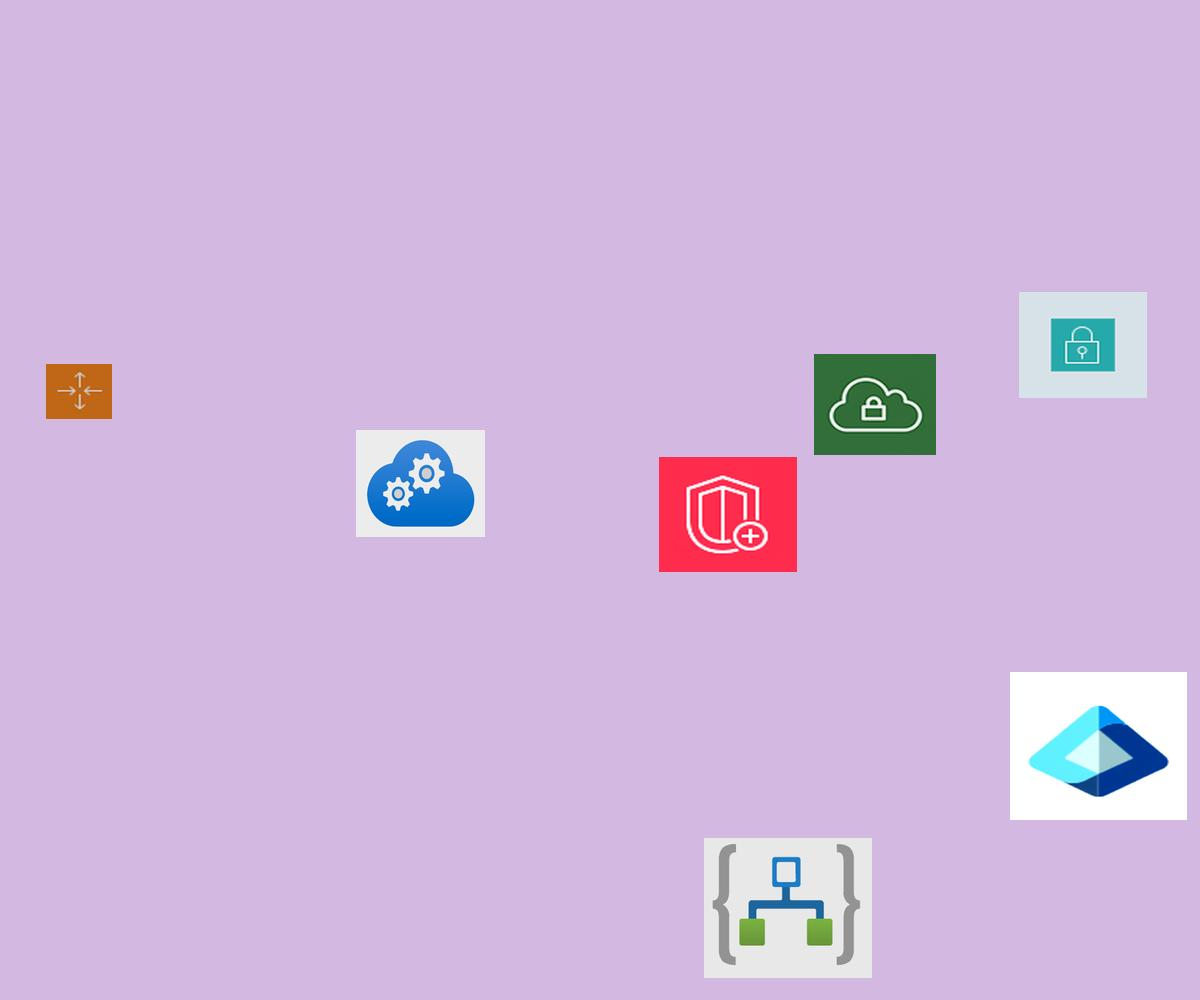AWS-Private-subnet: (1019, 292, 1147, 398)
AWS-Private_vpc: (814, 354, 936, 455)
AWS-Scaling-group: (46, 364, 112, 419)
AWS-Shield: (659, 457, 797, 572)
Azure_cloud_services: (356, 430, 485, 537)
Azure_integration-204-Logic-Apps: (704, 838, 872, 978)
Azure_microsoft_entra: (1010, 672, 1187, 820)
